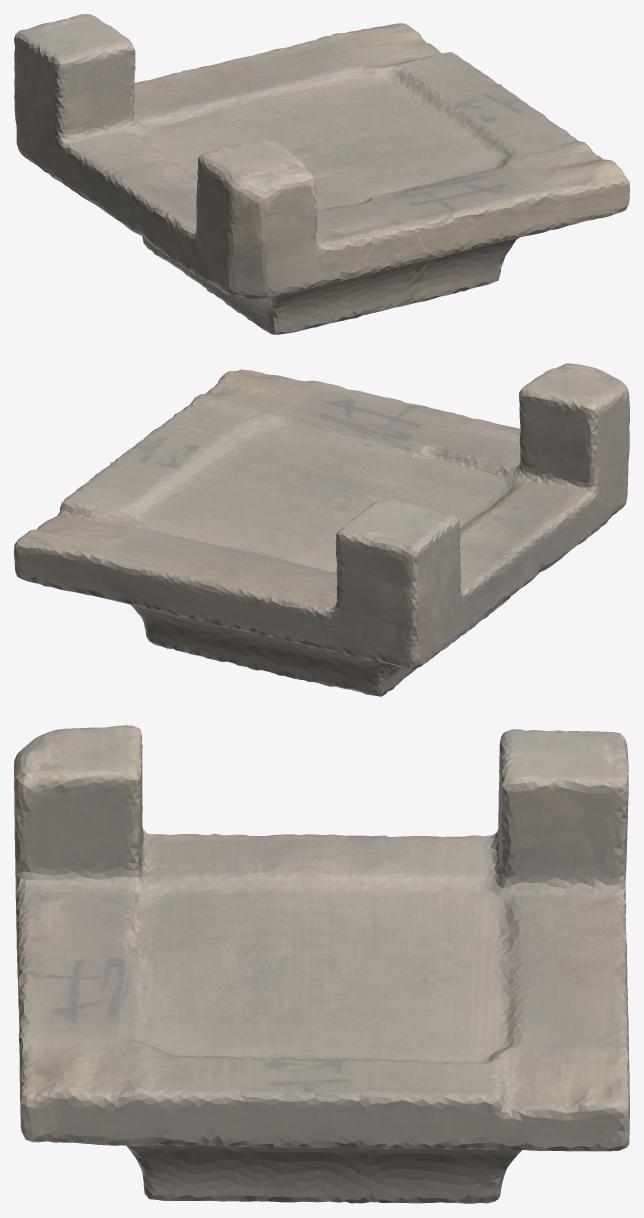
File: makit.glb
3 renders of one model, top to bottom at view 1: azimuth 30°, elevation 25°; view 2: azimuth 150°, elevation 25°; view 3: azimuth 270°, elevation 25°, orthographic. The views are drawn at different scales.
Visible parts, largest first — view 1: makittest; view 2: makittest; view 3: makittest.
Boxes of the visible parts, left/top/right/bottom form: makittest: left=14, top=14, right=629, bottom=334; makittest: left=14, top=363, right=629, bottom=696; makittest: left=14, top=725, right=629, bottom=1203.
Bounding box in the file's own units: 258 × 130 × 256.
Materials: 1 (1 with a texture image).
